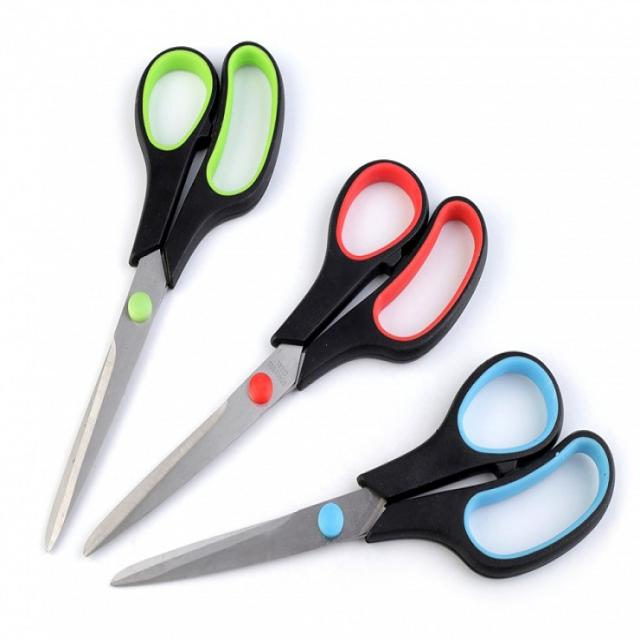scissor: (41, 35, 285, 550)
